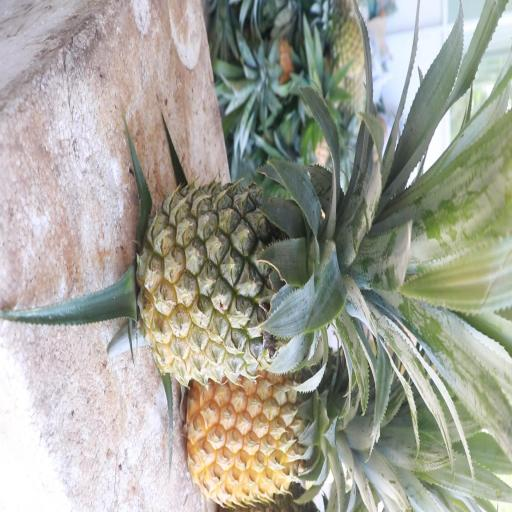------------------------------: (142, 181, 336, 375)
Pineapple - v8 v1: (186, 370, 336, 498)
